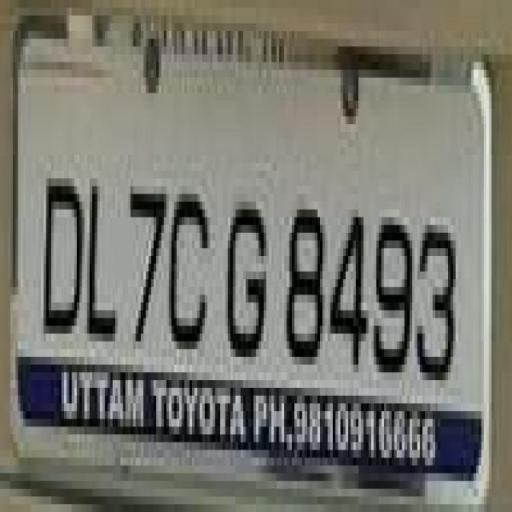number plate: (0, 16, 489, 458)
